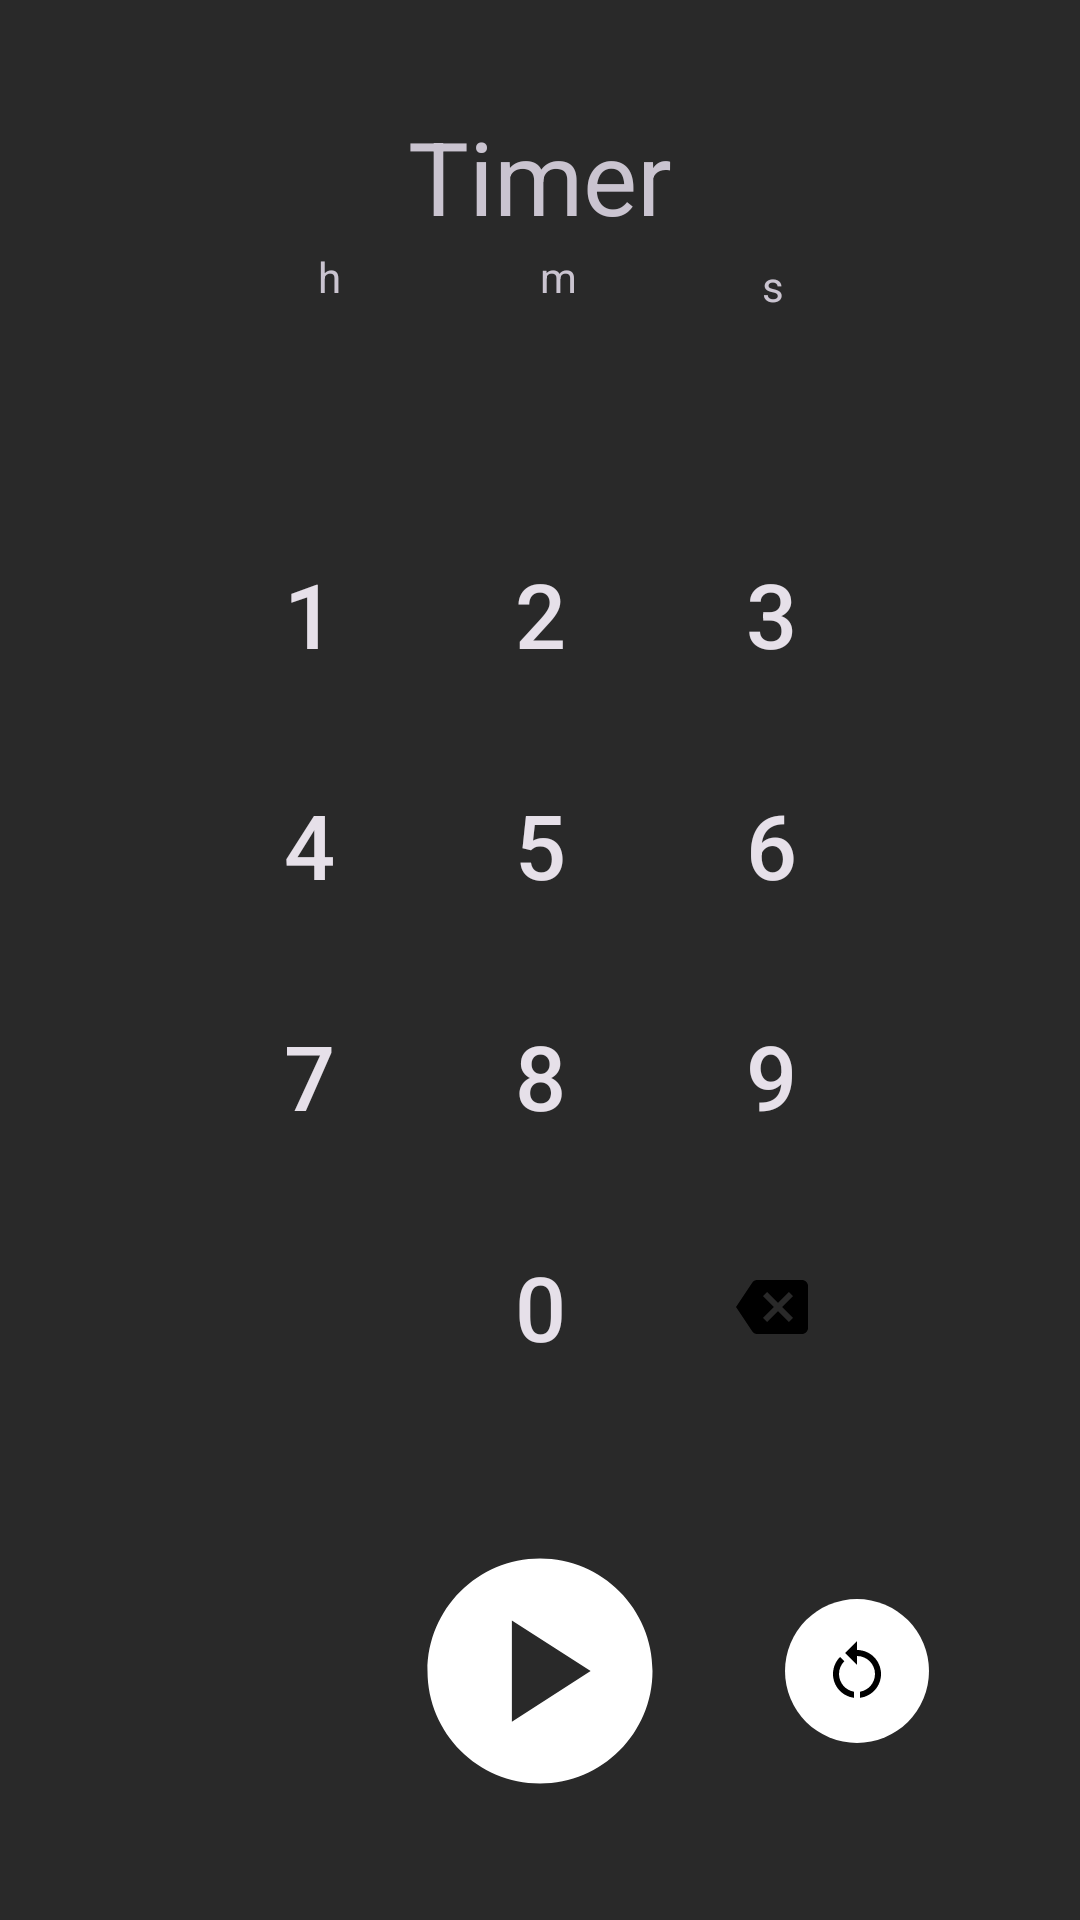

Screen size 1080px×1920px. Icon name, then its center in pixels as (x=x, y=y):
backspace: (x=772, y=1307)
play circle: (x=540, y=1671)
restart: (x=857, y=1671)
